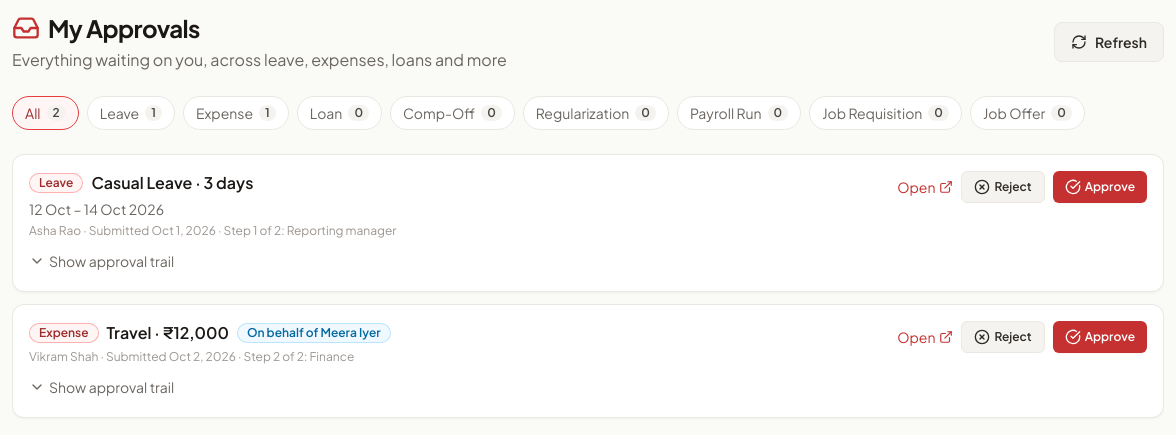
Test case: MyApprovalsPage › counts items per type on the filter chips and filters by type
expect the text "Casual Leave · 3 days" is shown: met, box [91,171,253,195]
expect the button "All 2" is shown: met, box [12,96,79,130]
Click the button "Expense 1" at (236, 113), box [183,96,289,130]
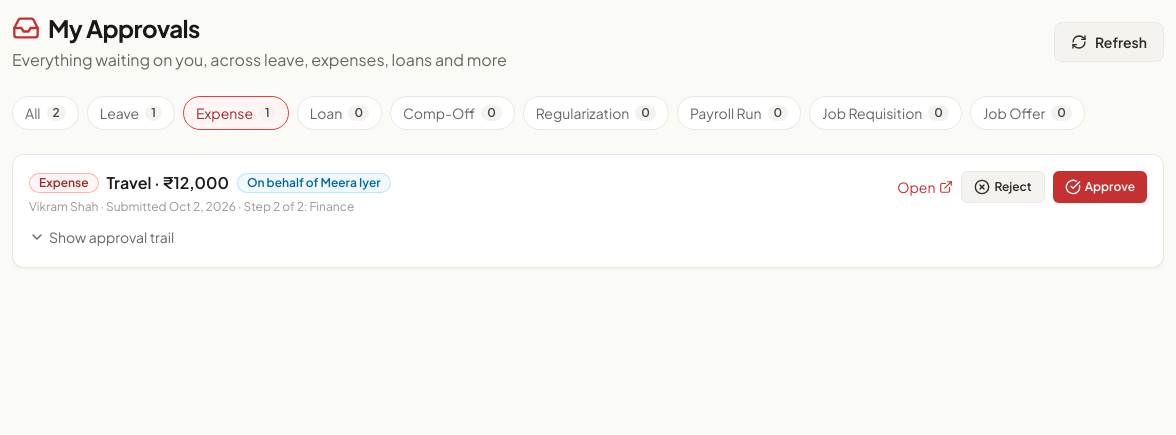
expect the text "Travel · ₹12,000" is shown: met, box [107,171,229,195]
expect the text "Casual Leave · 3 days" is gone: met
